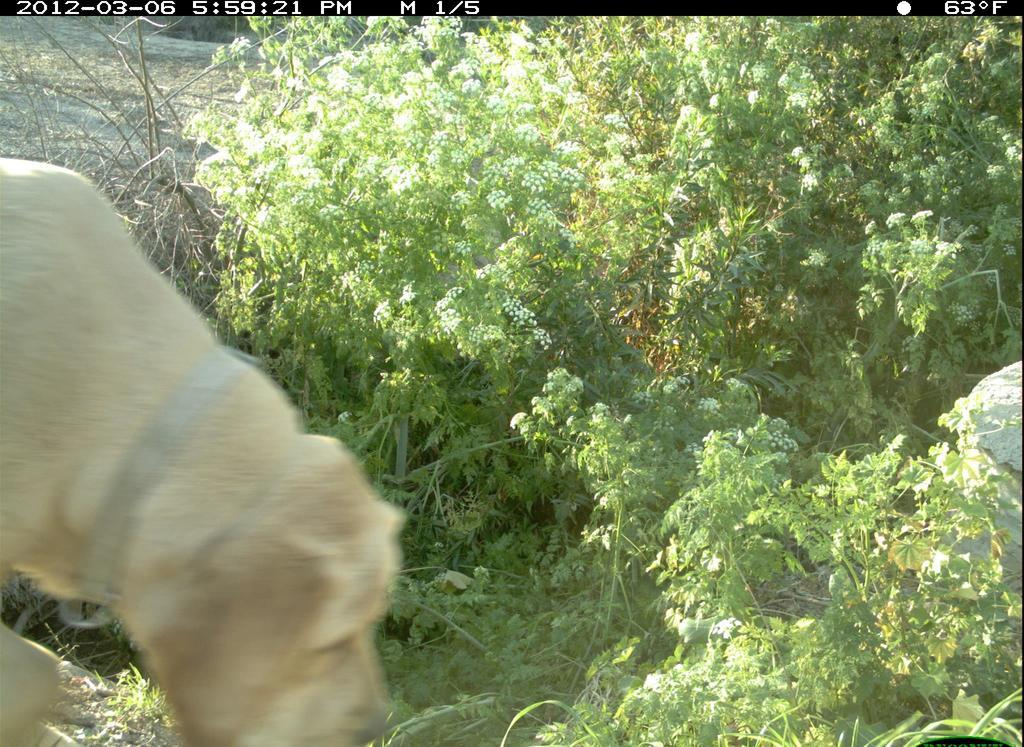dog: (1, 154, 428, 743)
